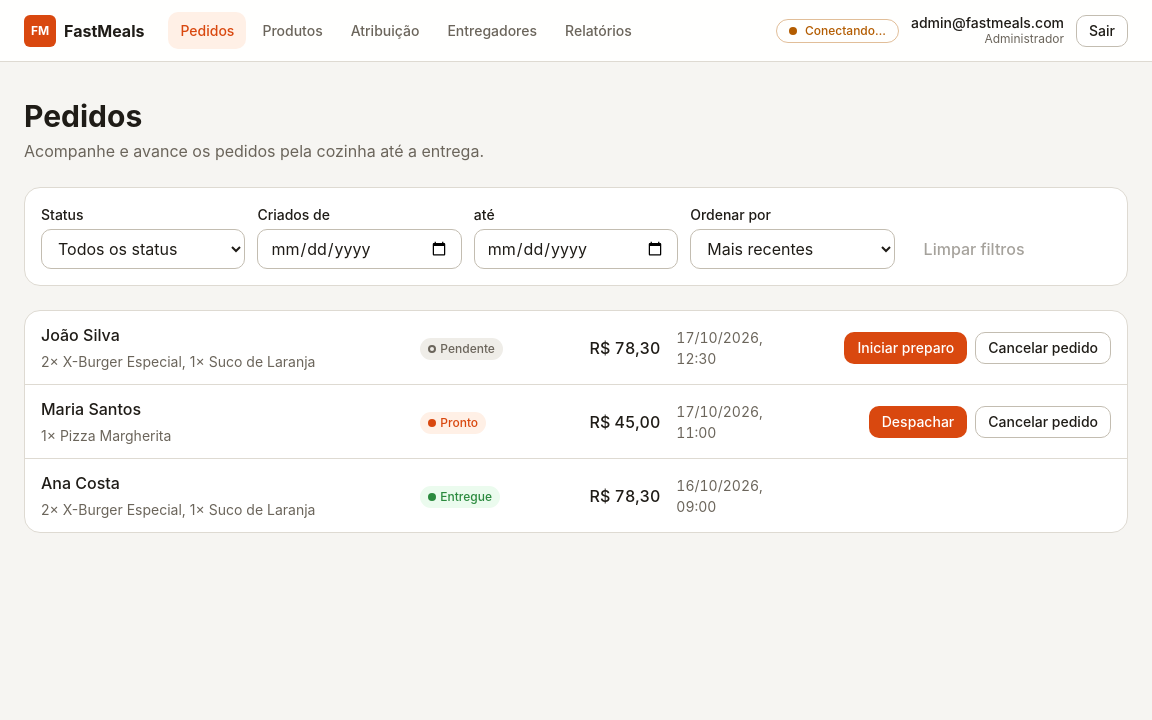
Test: Painel de pedidos › abre o detalhe em modal (com link próprio) e fecha com Esc
The width and height of the screenshot is (1152, 720).
Step 1. Click the button with aria-label "Ver detalhes do pedido de Maria Santos" → (91, 409), box [41,397,404,446]
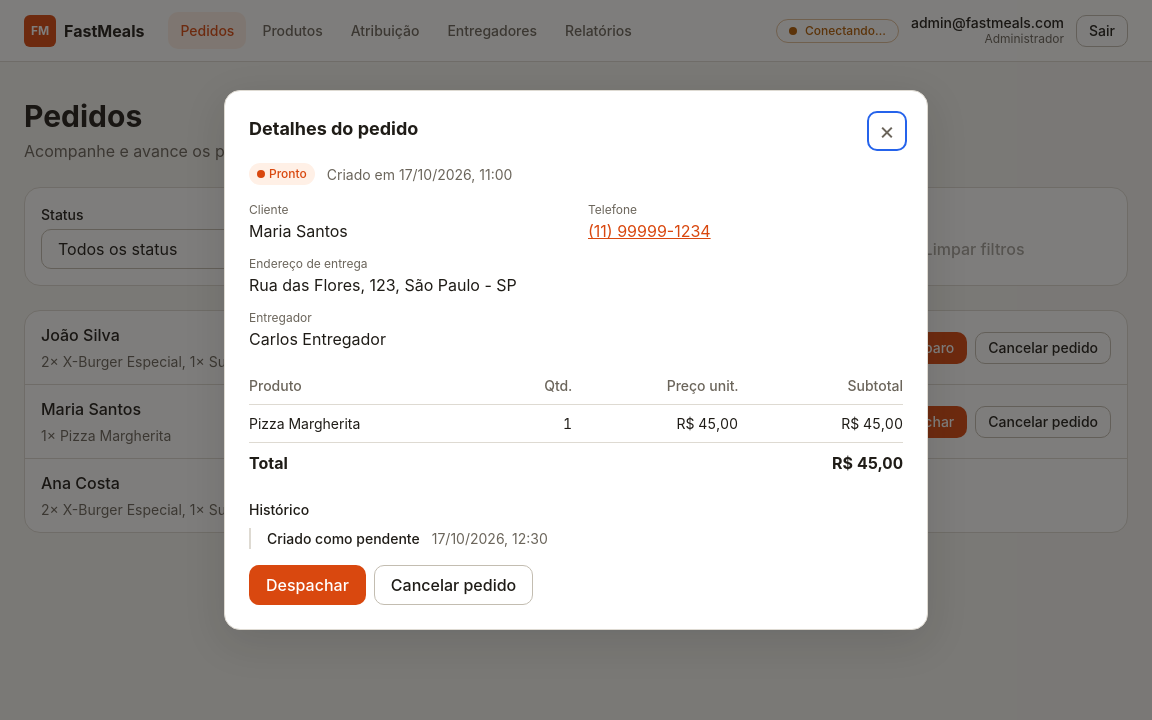
Check: the text "Carlos Entregador" is shown, box [249,329,386,349]
Check: the row "Pizza Margherita 1 R$ 45,00 R$ 45,00" is shown, box [249,405,903,442]
Step 2. Press Escape
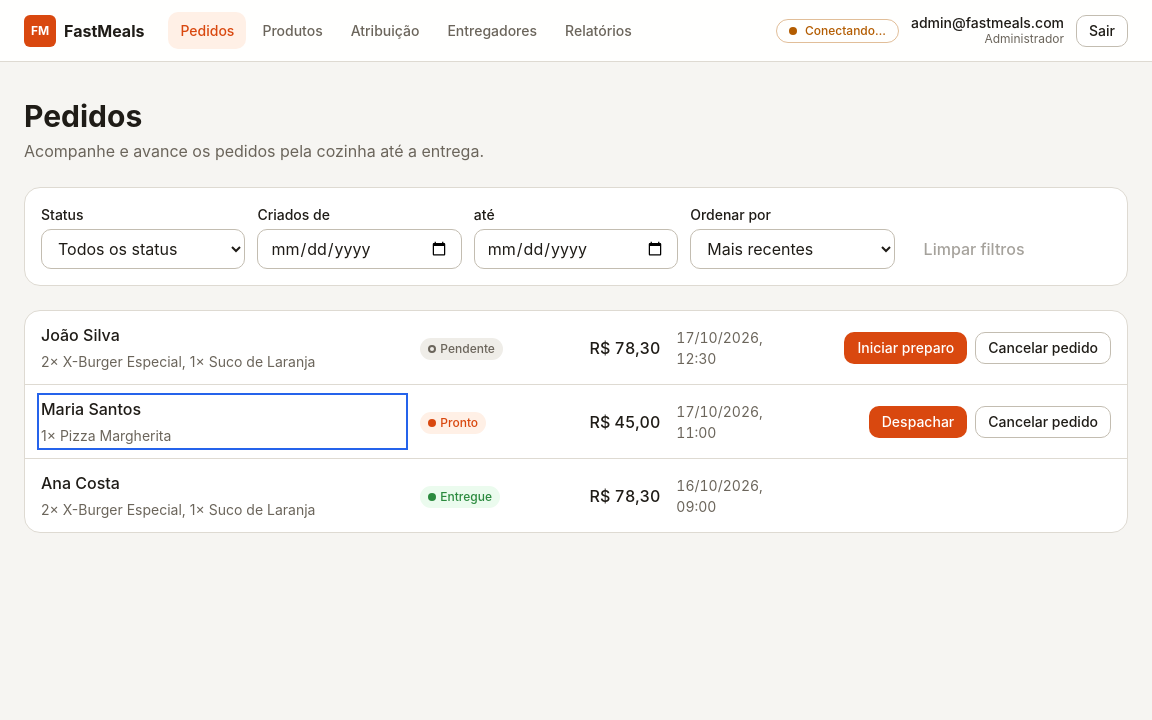
Check: the dialog is gone
